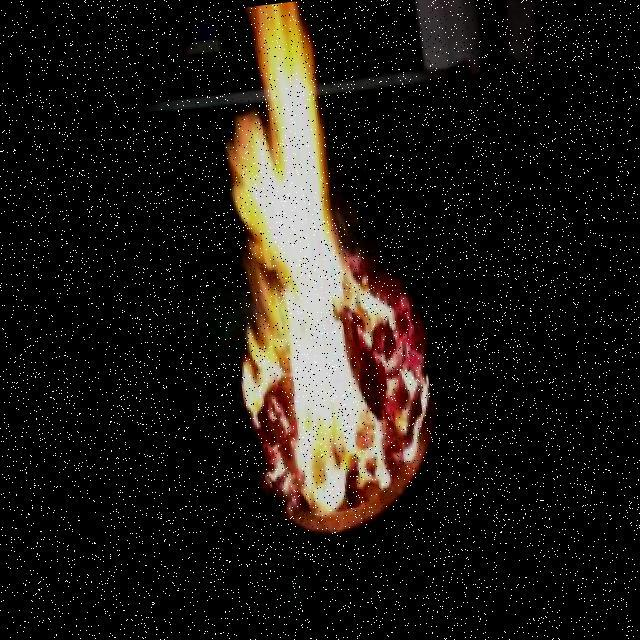Fire: (201, 1, 388, 525), (360, 260, 445, 474)
